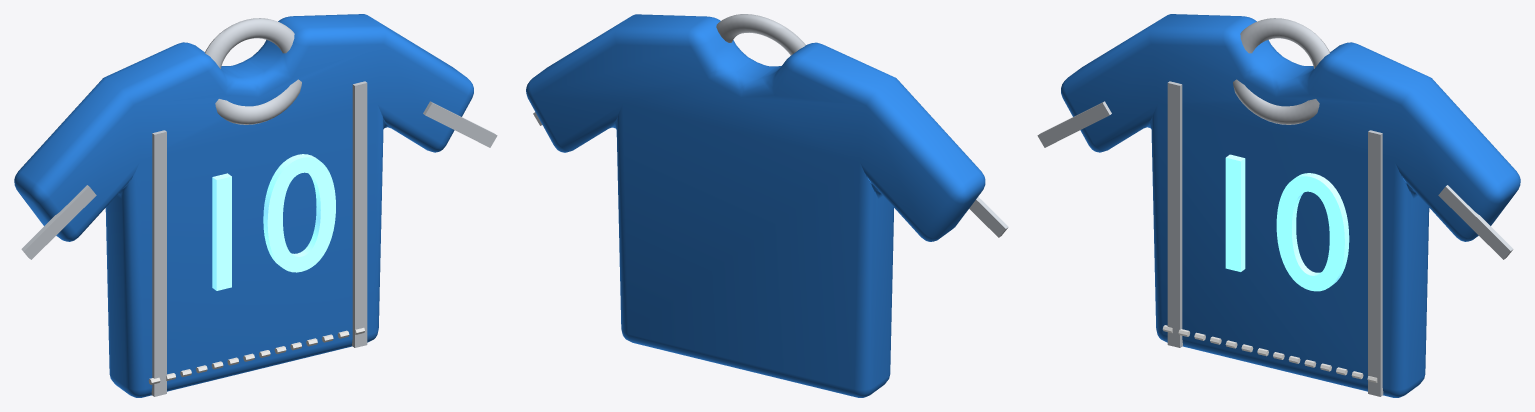
Rendered from robe.glb.
3 views of the same model, side by side, from view 1: azimuth 30°, elevation 25°; view 2: azimuth 150°, elevation 25°; view 3: azimuth 330°, elevation 25° (orthographic).
Parts seen in each view (by area): view 1: robe; view 2: robe; view 3: robe.
Part boxes in pixels (x1,y1,x2,y2): robe: (14,14,497,397); robe: (526,14,1008,397); robe: (1037,14,1520,397).
Size of the model in its own units: 1.6 by 1.12 by 0.1948.
